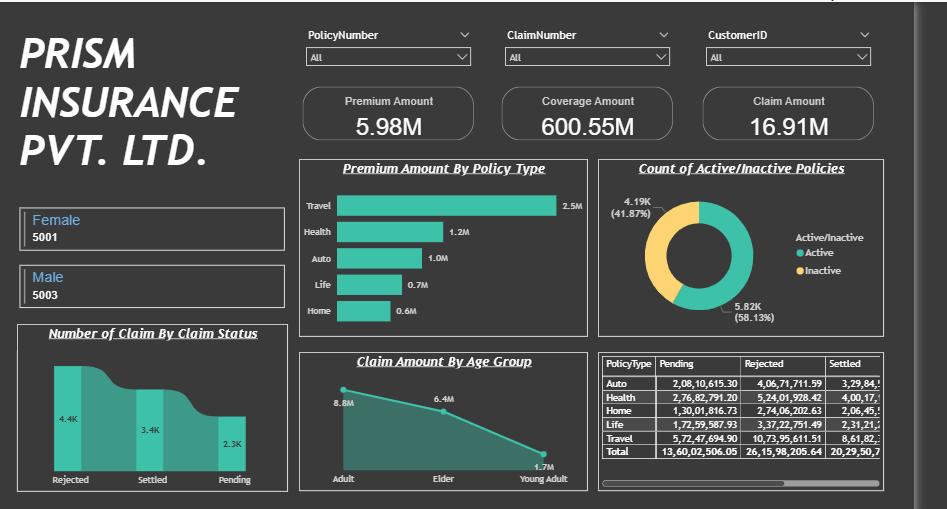

What the dashboard file says about the page in this screenshot:
{"tool":"powerbi","page":{"name":"Page 1","canvas":[1280,720],"ordinal":0},"visuals":[{"type":"slicer","fields":{"Values":["InsuranceData.PolicyNumber"]},"box":[423.3,31.9,250.3,58.8],"z":0},{"type":"slicer","fields":{"Values":["InsuranceData.ClaimNumber"]},"box":[700.5,31.9,250.3,58.8],"z":1000},{"type":"slicer","fields":{"Values":["InsuranceData.CustomerID"]},"box":[981,31.9,250.3,58.8],"z":2000},{"type":"textbox","box":[28.6,31.9,380,250],"z":3000},{"type":"cardVisual","fields":{"Data":["Sum(InsuranceData.PremiumAmount)"]},"box":[422.8,113,249.8,85.1],"z":4000},{"type":"cardVisual","fields":{"Data":["Sum(InsuranceData.CoverageAmount)"]},"box":[700.5,113,249.8,85.1],"z":5000},{"type":"cardVisual","fields":{"Data":["Sum(InsuranceData.ClaimAmount)"]},"box":[980.9,113,249.8,85.1],"z":6000},{"type":"multiRowCard","fields":{"Values":["InsuranceData.Gender","CountNonNull(InsuranceData.Gender)"]},"box":[27.9,281.9,379.5,185.6],"z":7000},{"type":"ribbonChart","title":"Number of Claim By Claim Status","fields":{"Y":["CountNonNull(InsuranceData.ClaimStatus)"],"Category":["InsuranceData.ClaimStatus"]},"box":[29.3,449.3,378.1,234.4],"z":8000},{"type":"clusteredBarChart","title":" Premium Amount By Policy Type","fields":{"Category":["InsuranceData.PolicyType"],"Y":["Sum(InsuranceData.PremiumAmount)"]},"box":[422.8,219.1,403.3,248.4],"z":9000},{"type":"lineChart","title":"Claim Amount By Age Group","fields":{"Y":["Sum(InsuranceData.ClaimAmount)"],"Category":["InsuranceData.Age group"]},"box":[422.8,488.4,403.3,194],"z":10000},{"type":"donutChart","title":"Count of Active/Inactive Policies","fields":{"Category":["InsuranceData.ActiveInactive"],"Y":["CountNonNull(InsuranceData.ActiveInactive)"]},"box":[840,219.1,399.1,248.4],"z":11000},{"type":"pivotTable","fields":{"Rows":["InsuranceData.PolicyType"],"Columns":["InsuranceData.ClaimStatus"],"Values":["Sum(InsuranceData.CoverageAmount)"]},"box":[840,488.4,399.1,194],"z":12000}]}

Visuals, with their boxes on the page's 1280x720 design canvas (x1, y1, x2, y2). These are canvas units, not pixel positions in the 947x509 screenshot, which may show the page scaled, cropped or inside an application window:
slicer - InsuranceData.PolicyNumber: <box>423,32,674,91</box>
slicer - InsuranceData.ClaimNumber: <box>700,32,951,91</box>
slicer - InsuranceData.CustomerID: <box>981,32,1231,91</box>
textbox: <box>29,32,409,282</box>
cardVisual - Sum(InsuranceData.PremiumAmount): <box>423,113,673,198</box>
cardVisual - Sum(InsuranceData.CoverageAmount): <box>700,113,950,198</box>
cardVisual - Sum(InsuranceData.ClaimAmount): <box>981,113,1231,198</box>
multiRowCard - InsuranceData.Gender x CountNonNull(InsuranceData.Gender): <box>28,282,407,468</box>
"Number of Claim By Claim Status" ribbonChart: <box>29,449,407,684</box>
" Premium Amount By Policy Type" clusteredBarChart: <box>423,219,826,468</box>
"Claim Amount By Age Group" lineChart: <box>423,488,826,682</box>
"Count of Active/Inactive Policies" donutChart: <box>840,219,1239,468</box>
pivotTable - InsuranceData.PolicyType x InsuranceData.ClaimStatus: <box>840,488,1239,682</box>
